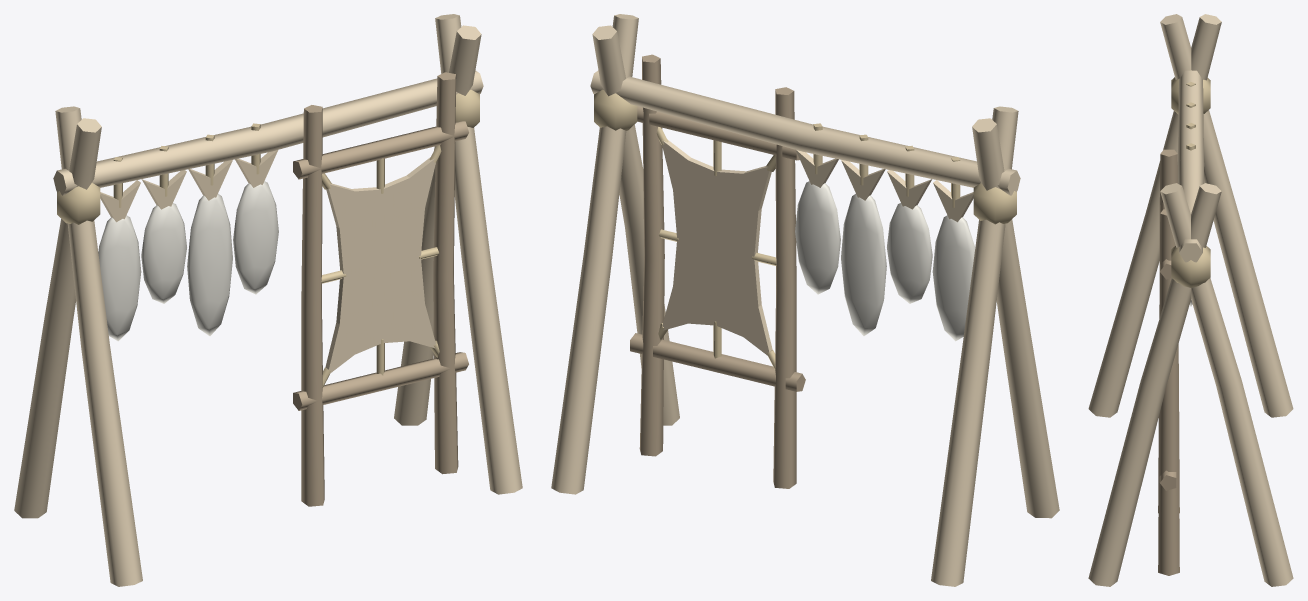
File: building.dryingrack.glb
3 renders of one model, left to right at view 1: azimuth 30°, elevation 25°; view 2: azimuth 150°, elevation 25°; view 3: azimuth 270°, elevation 25°, orthographic. The views are drawn at different scales.
Visible parts, largest first — view 1: Paint, PaintDark, Bone, Hide, Rope; view 2: Paint, PaintDark, Bone, Hide, Rope; view 3: Paint, PaintDark, Rope.
Part boxes in pixels (x1,y1,x2,y2): Paint: (14, 14, 522, 586); PaintDark: (293, 72, 468, 506); Bone: (98, 181, 278, 341); Hide: (325, 157, 435, 373); Rope: (57, 89, 479, 386); Paint: (551, 14, 1059, 586); PaintDark: (630, 54, 805, 488); Bone: (795, 181, 974, 341); Hide: (662, 139, 772, 356); Rope: (594, 89, 1016, 369); Paint: (1088, 14, 1293, 586); PaintDark: (1158, 149, 1179, 575); Rope: (1171, 77, 1210, 287).
Size of the model in its own units: 1.01 by 0.9917 by 0.4662.
